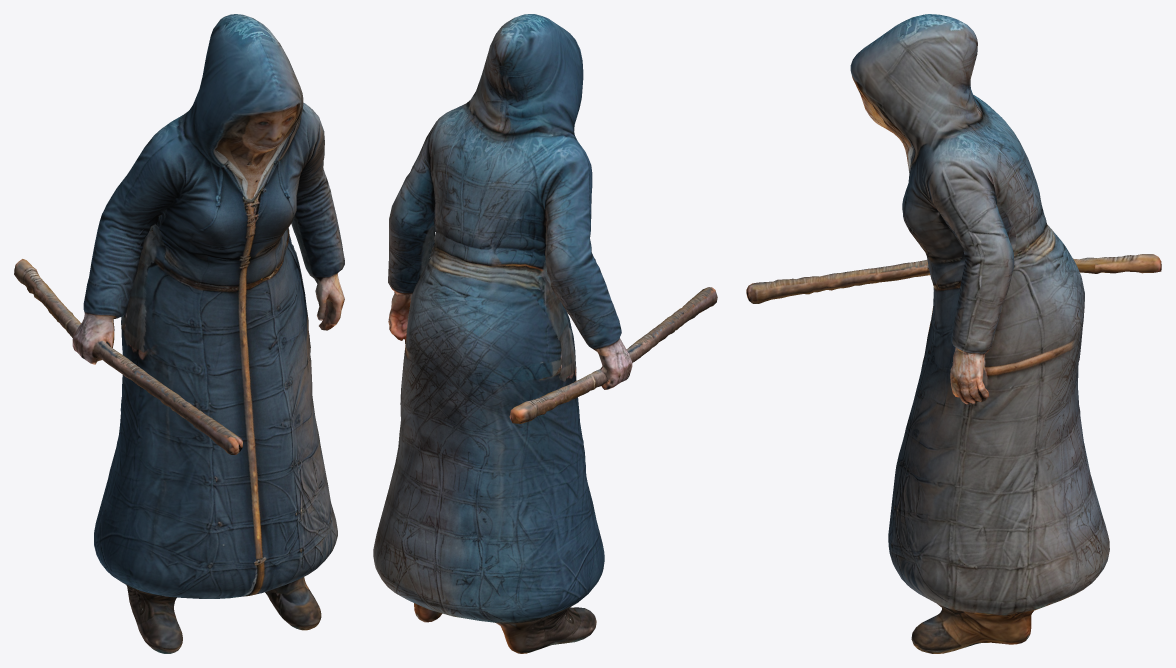
The model's file is witch.glb.
3 renders of one model, left to right at view 1: azimuth 30°, elevation 25°; view 2: azimuth 150°, elevation 25°; view 3: azimuth 270°, elevation 25°, orthographic. The views are drawn at different scales.
Visible parts, largest first — view 1: Mesh_0_Material_0_0; view 2: Mesh_0_Material_0_0; view 3: Mesh_0_Material_0_0.
Part boxes in pixels (x1,y1,x2,y2): Mesh_0_Material_0_0: (14,14,344,653); Mesh_0_Material_0_0: (373,14,717,653); Mesh_0_Material_0_0: (746,14,1161,653).
Size of the model in its own units: 0.5153 by 1.2 by 0.7435.
1 material, 1 textured.
